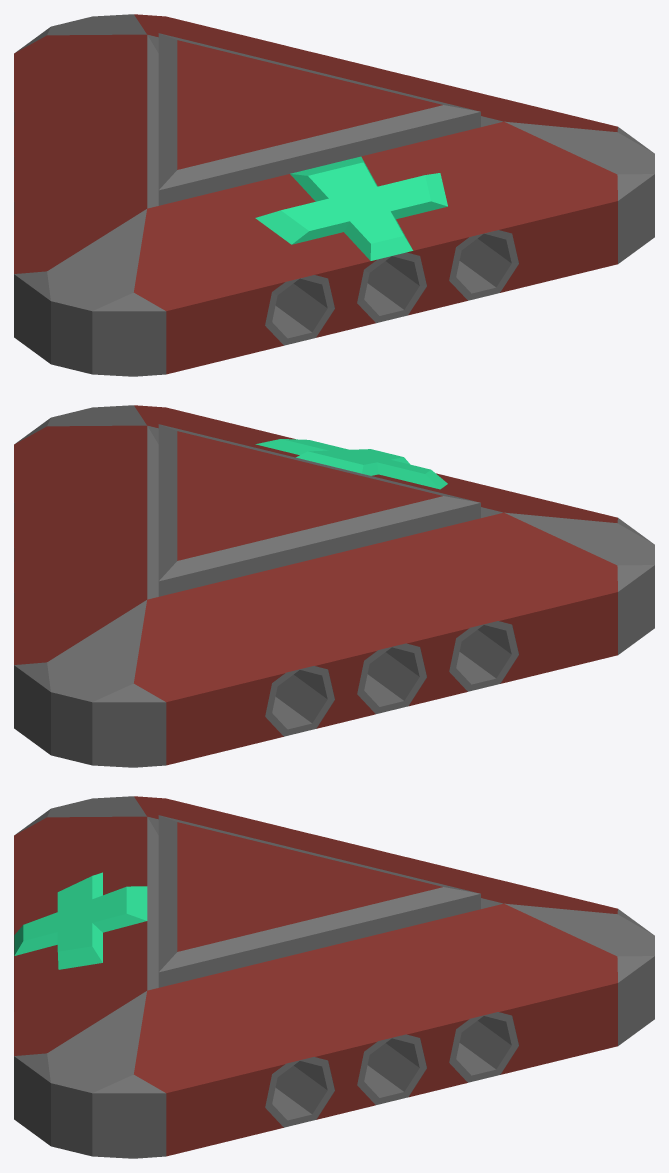
Rendered from HealPack.fbx.
3 views of the same model, one above another, from view 1: azimuth 30°, elevation 25°; view 2: azimuth 150°, elevation 25°; view 3: azimuth 270°, elevation 25° (orthographic).
Visible parts, largest first — view 1: HealContainer, OpenButton; view 2: HealContainer, OpenButton; view 3: HealContainer, OpenButton.
Boxes of the visible parts, bbox=[...] form: HealContainer: bbox=[14, 14, 654, 376]; OpenButton: bbox=[158, 33, 480, 205]; HealContainer: bbox=[14, 405, 654, 767]; OpenButton: bbox=[158, 424, 480, 596]; HealContainer: bbox=[14, 796, 654, 1158]; OpenButton: bbox=[158, 815, 480, 987].
Size of the model in its own units: 106 by 27.54 by 97.35.
